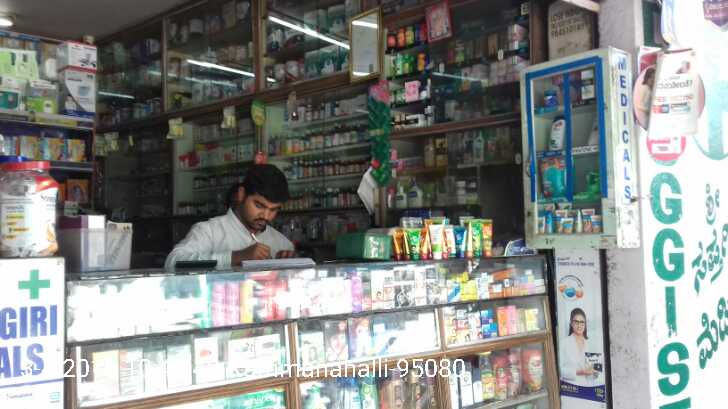vicks: (543, 90, 557, 106)
